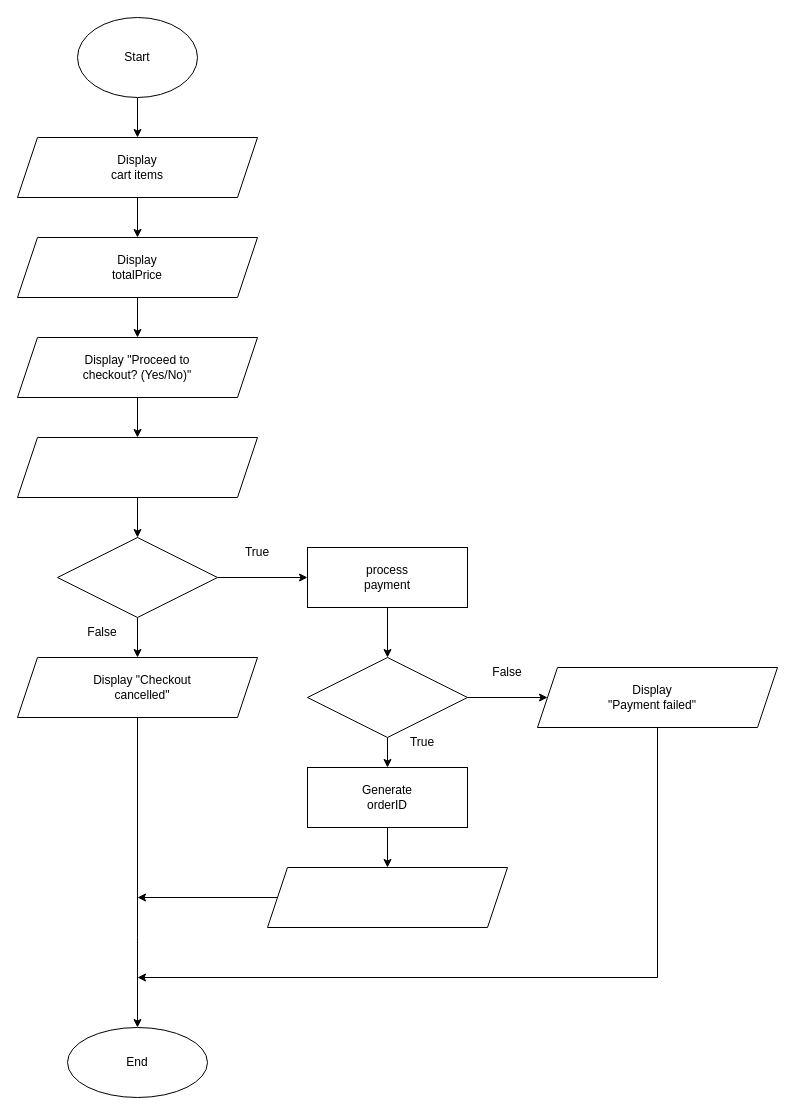
The diagram is 795 pixels wide and 1115 high, and some of its shapes have lost their labels. The centre of each missing label's shape, as x and y in pixels:
Display "Order placed successfully": (x=387, y=897)
If choice=="Yes": (x=137, y=577)
If payment successful: (x=387, y=697)
Input choice: (x=137, y=467)
